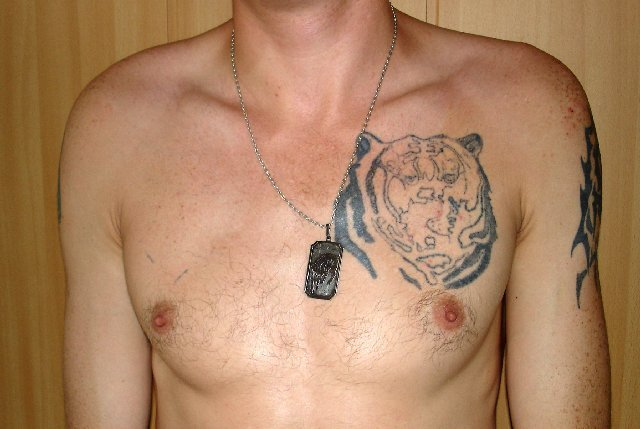tatu5_tigr: (337, 130, 500, 289)
